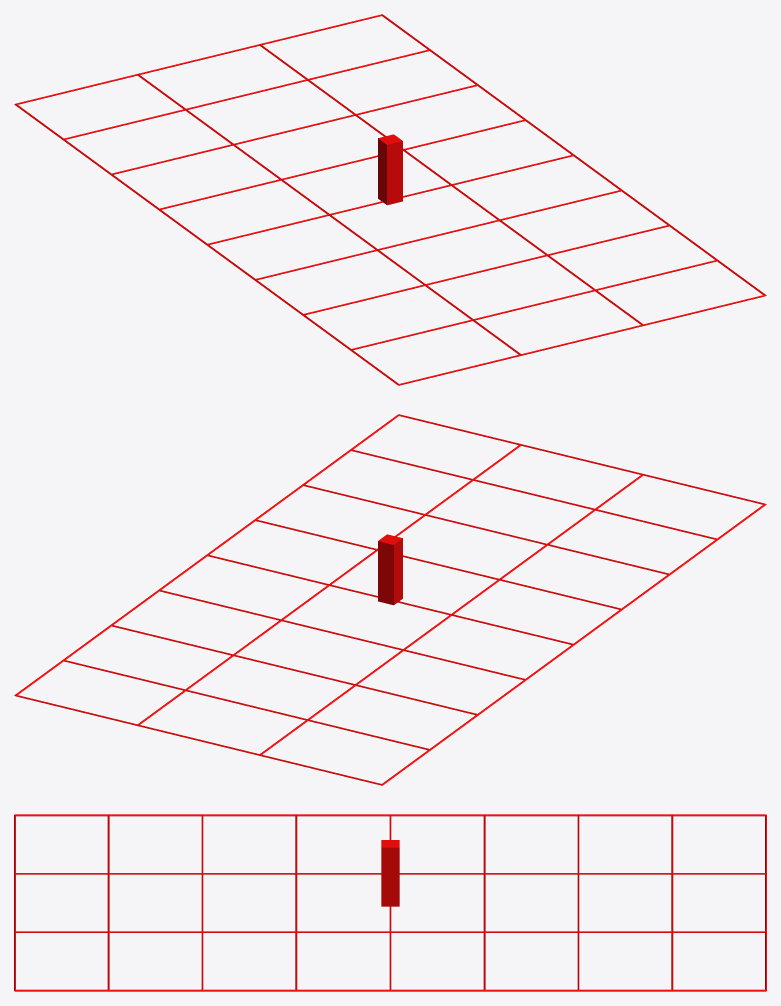
The picture shows the model from 3 angles, top to bottom: view 1: azimuth 30°, elevation 25°; view 2: azimuth 150°, elevation 25°; view 3: azimuth 270°, elevation 25°; orthographic projection. The views are drawn at different scales.
Parts seen in each view (by area): view 1: 9gongge_gezi; view 2: 9gongge_gezi; view 3: 9gongge_gezi.
Part boxes in pixels (left/top/right/bottom): 9gongge_gezi: left=14, top=14, right=766, bottom=385; 9gongge_gezi: left=14, top=414, right=766, bottom=785; 9gongge_gezi: left=14, top=814, right=766, bottom=991.
Bounding box in the file's own units: 1152 × 2077 × 183.
